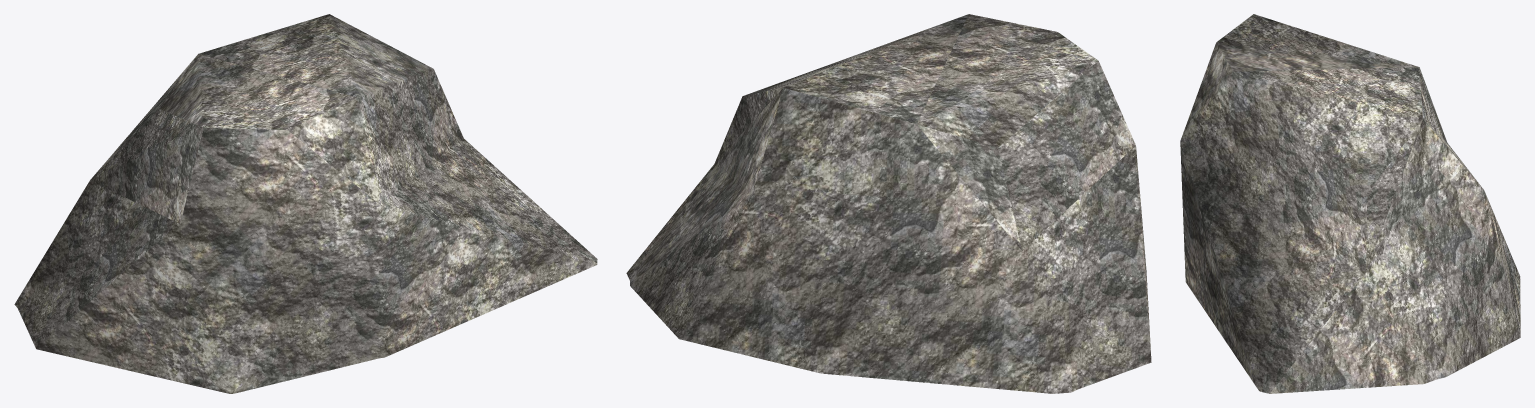
Rendered from rock_5.dae.
3 renders of one model, left to right at view 1: azimuth 30°, elevation 25°; view 2: azimuth 150°, elevation 25°; view 3: azimuth 270°, elevation 25°, orthographic. The views are drawn at different scales.
Parts seen in each view (by area): view 1: Model; view 2: Model; view 3: Model.
Boxes of the visible parts, left/top/right/bottom form: Model: left=14, top=14, right=597, bottom=393; Model: left=626, top=14, right=1151, bottom=393; Model: left=1180, top=14, right=1520, bottom=393.
Bounding box in the file's own units: 394 × 258 × 176.
Materials: 1 (1 with a texture image).
